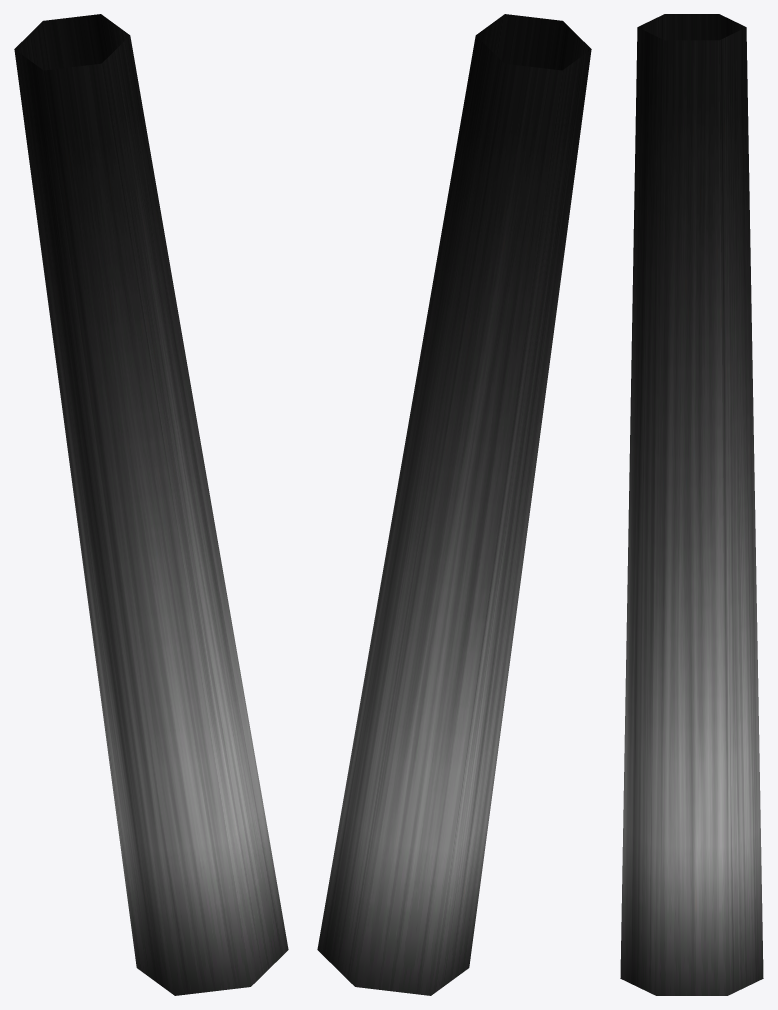
Rendered from caveShaft (3).fbx.
The picture shows the model from 3 angles, left to right: view 1: azimuth 30°, elevation 25°; view 2: azimuth 150°, elevation 25°; view 3: azimuth 270°, elevation 25°; orthographic projection. The views are drawn at different scales.
Parts seen in each view (by area): view 1: caveShaft (3); view 2: caveShaft (3); view 3: caveShaft (3).
Part boxes in pixels (x1,y1,x2,y2): caveShaft (3): (14,14,288,995); caveShaft (3): (317,14,591,995); caveShaft (3): (620,14,763,995).
Bounding box in the file's own units: 2.43 × 9.35 × 1.34.
